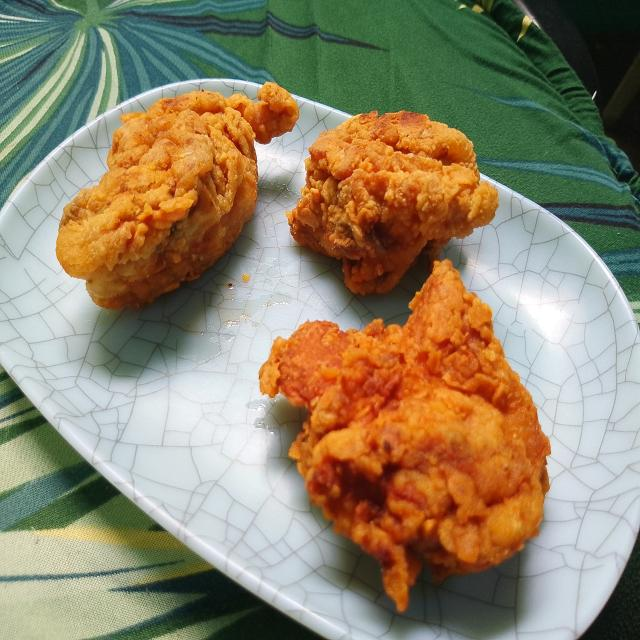Chicken -Fried Chicken-: (256, 254, 551, 619), (53, 77, 304, 313), (288, 102, 502, 304)
